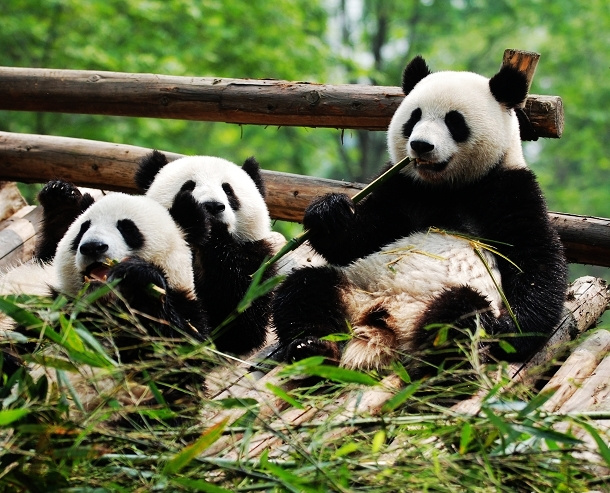panda: (282, 35, 554, 392), (137, 138, 282, 354), (37, 171, 201, 348)
